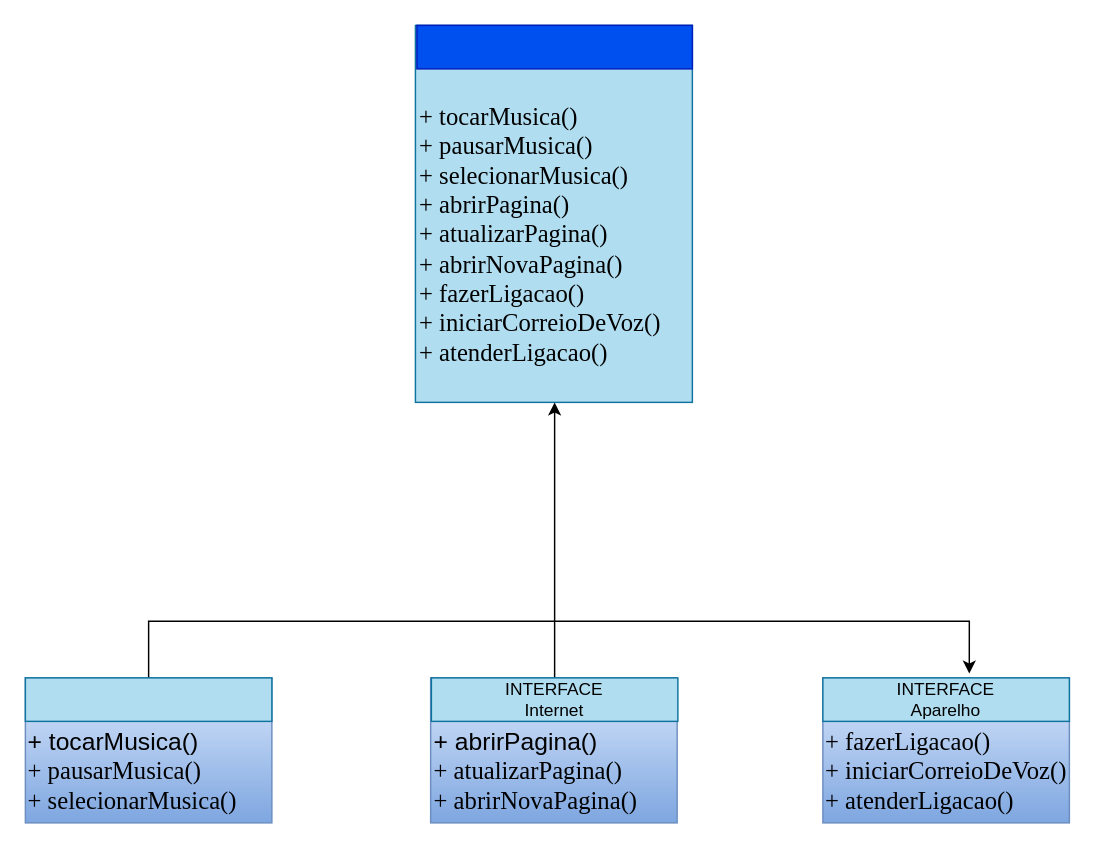
The diagram is 1095 pixels wide and 848 high, and some of its shapes have lost their labels. The shapes that lost their labels are listed below. From the top down, each one's centre as x and y in pixels, then its label:
[553,46]: Iphone
[148,698]: INTERFACE ReprodutorMusica
